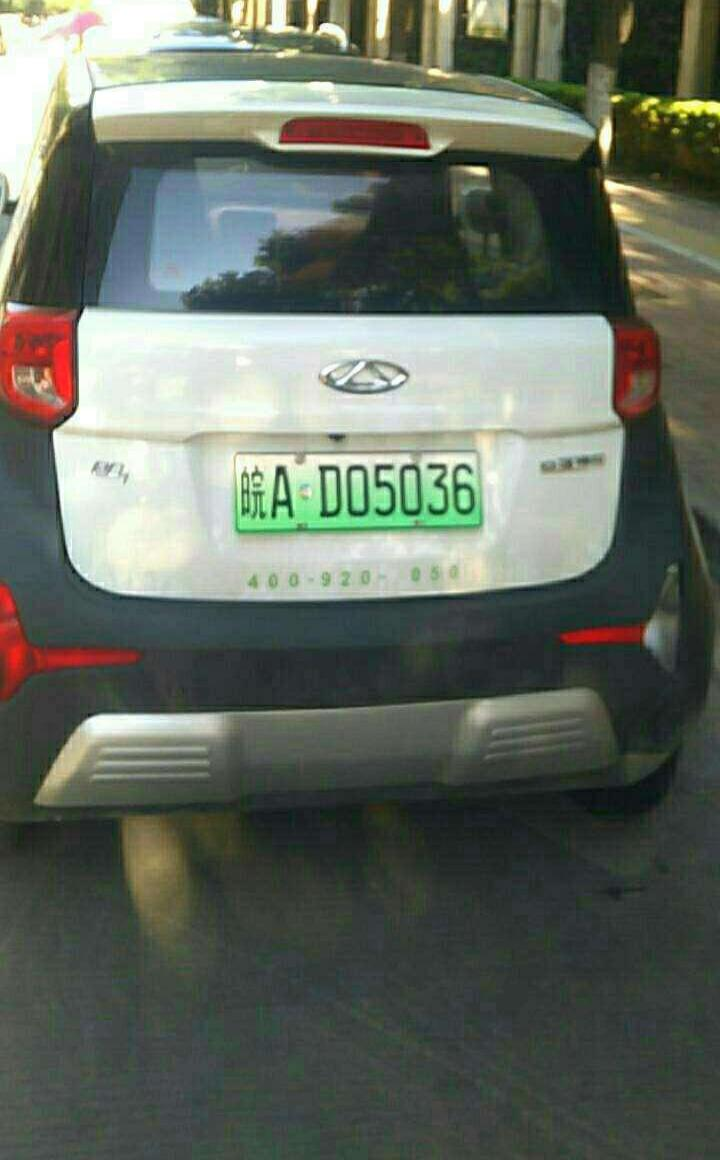car_id: (233, 453, 480, 528)
